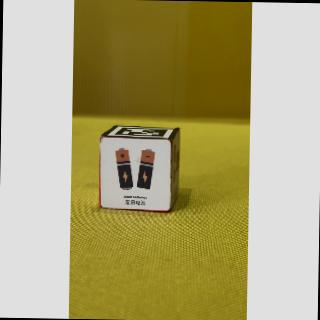Used_Battery: (99, 138, 174, 214)
